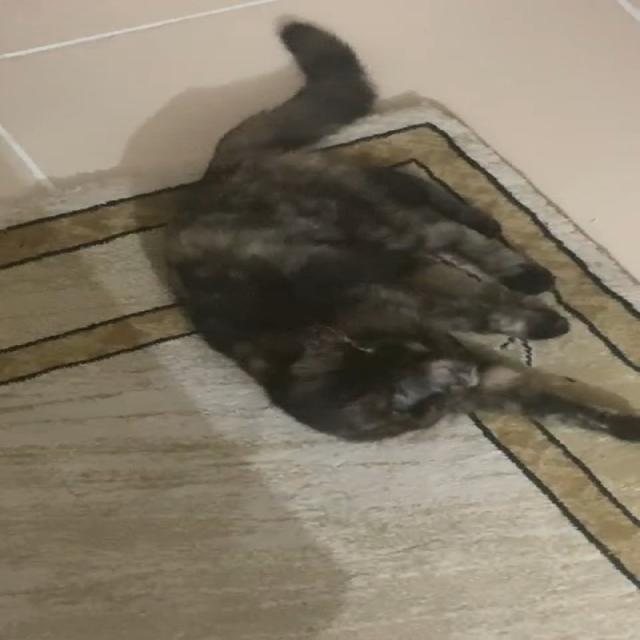authorized: (159, 14, 637, 444)
